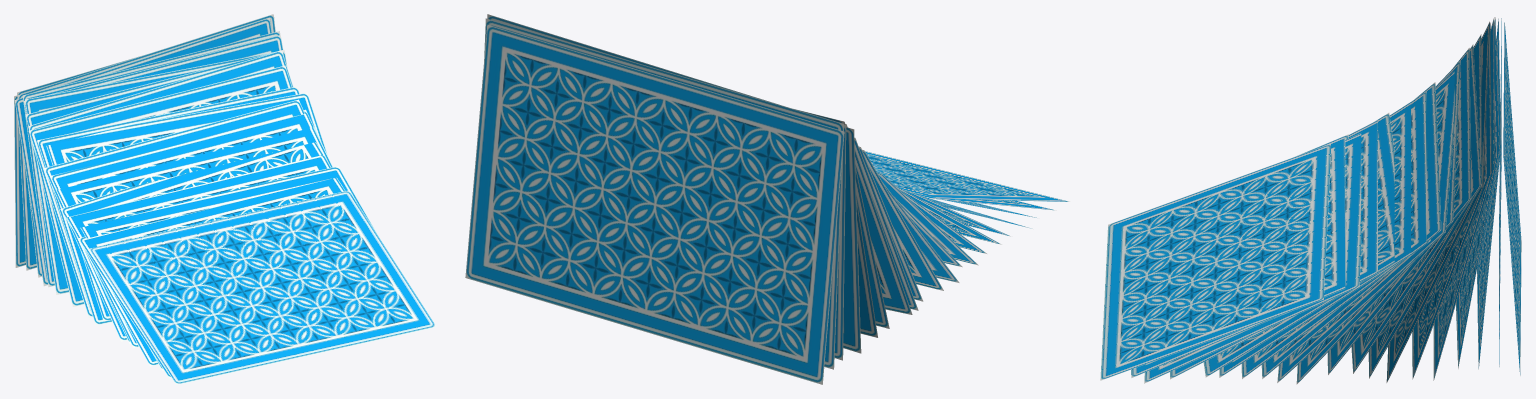
The picture shows the model from 3 angles, left to right: view 1: azimuth 30°, elevation 25°; view 2: azimuth 150°, elevation 25°; view 3: azimuth 270°, elevation 25°; orthographic projection. The views are drawn at different scales.
Visible parts, largest first — view 1: Cards; view 2: Cards; view 3: Cards.
Boxes of the visible parts, x1,y1,x2,y2 form: Cards: (14,14,436,384); Cards: (465,14,1069,384); Cards: (1100,17,1521,384).
Bounding box in the file's own units: 1.59 × 1.11 × 1.74.
1 material, 1 textured.
